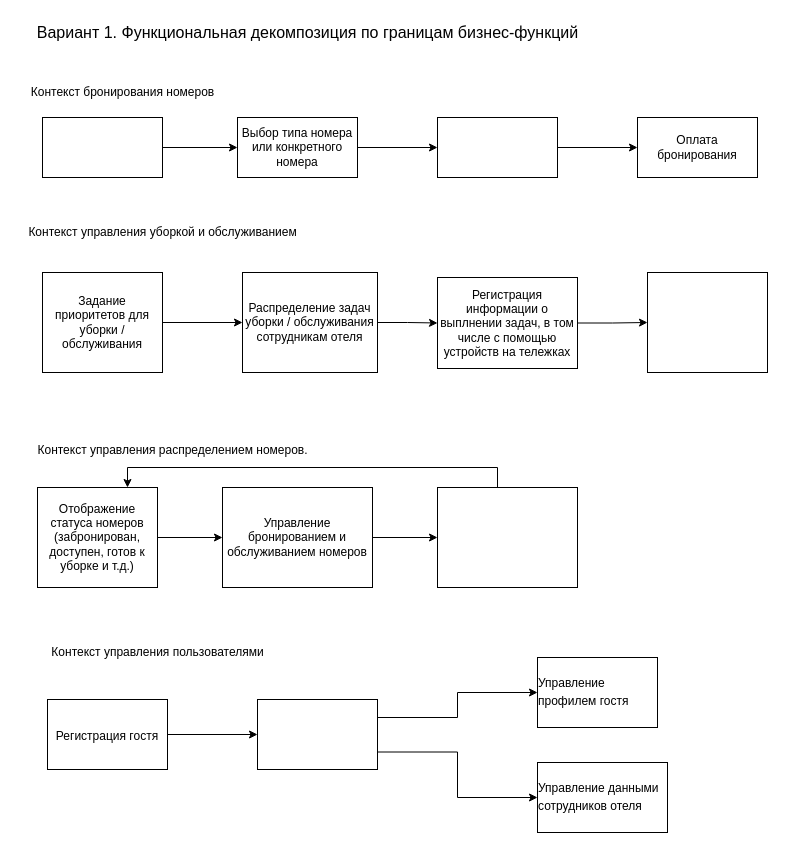
Image size: 785x850. Some labels were removed from this diagram. Here are the shapes that lost their labels. From the top down, the box of each, then its label:
(42, 116, 162, 178): Просмотр доступных номеров и их характеристик
(436, 116, 558, 178): Оформление бронирования
(646, 272, 768, 372): Отслеживание состояния уборки
(436, 486, 578, 588): Обновление статуса номеров при бронировании и освобождении
(256, 698, 378, 770): Аутентификация и авторизация
